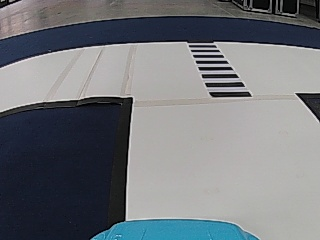CrossWalk: (186, 44, 251, 97)
